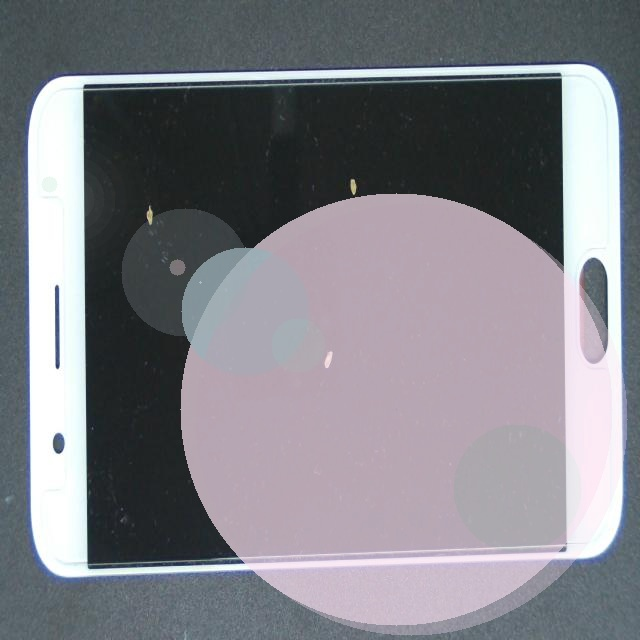stain: (177, 135, 481, 520), (190, 31, 506, 234), (78, 66, 213, 305)
